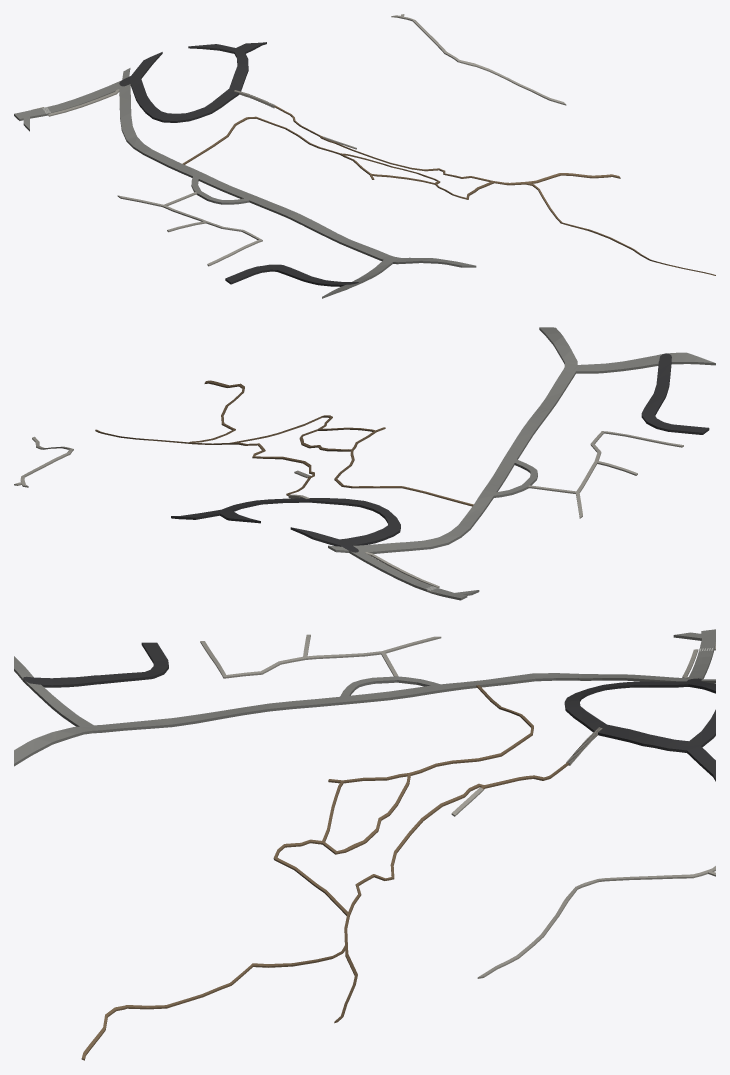
The picture shows the model from 3 angles, top to bottom: view 1: azimuth 30°, elevation 25°; view 2: azimuth 150°, elevation 25°; view 3: azimuth 270°, elevation 25°; orthographic projection. The views are drawn at different scales.
Size of the model in its own units: 293 by 76.57 by 292.
